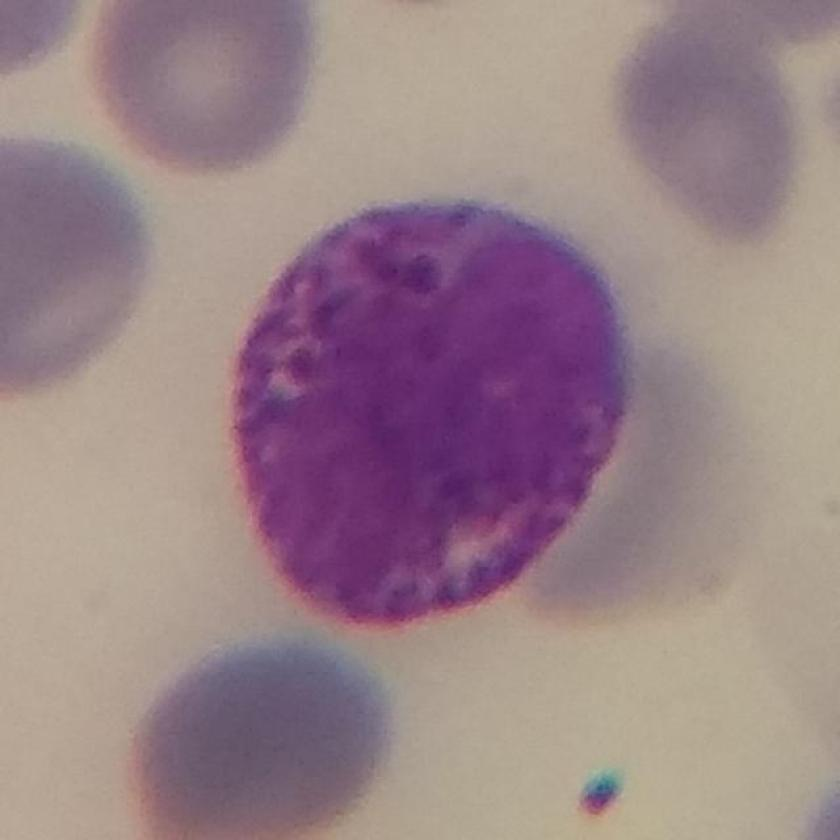basophil: (215, 184, 644, 646)
